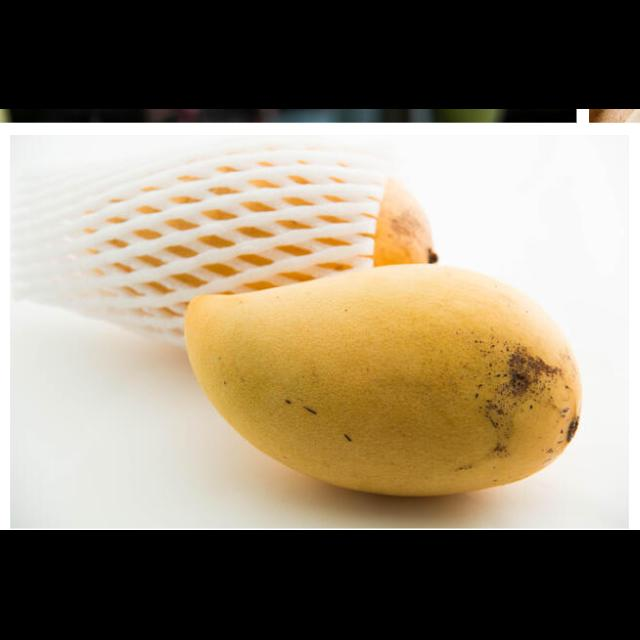mango: (184, 261, 578, 499)
